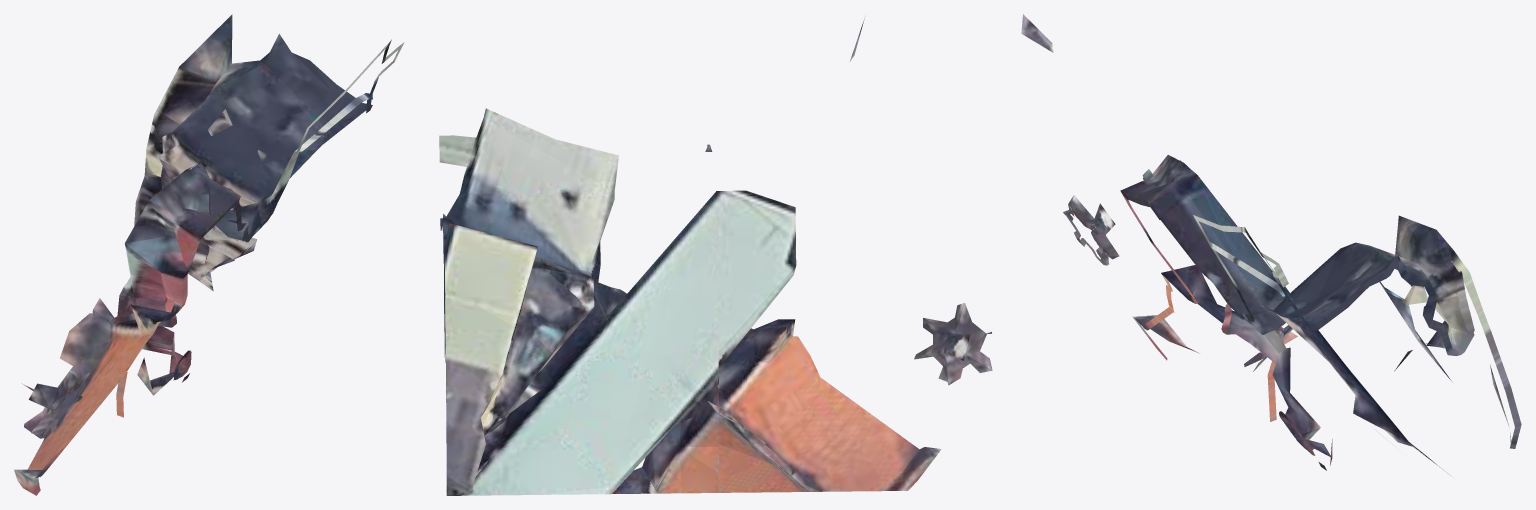
3 views of the same model, side by side, from view 1: azimuth 30°, elevation 25°; view 2: azimuth 150°, elevation 25°; view 3: azimuth 270°, elevation 25° (orthographic). The views are drawn at different scales.
Bounding box in the file's own units: 33.43 × 27.84 × 31.25.
1 material, 1 textured.
